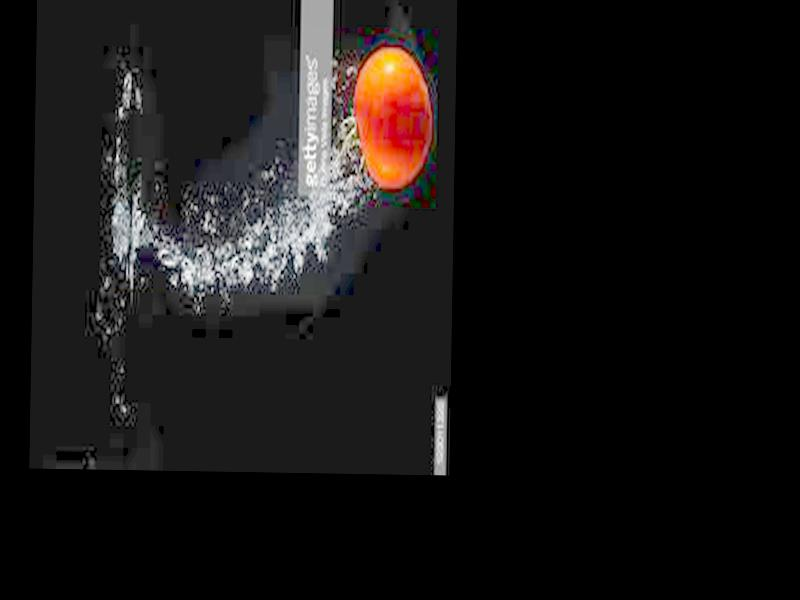Tomato: (352, 47, 430, 190)
